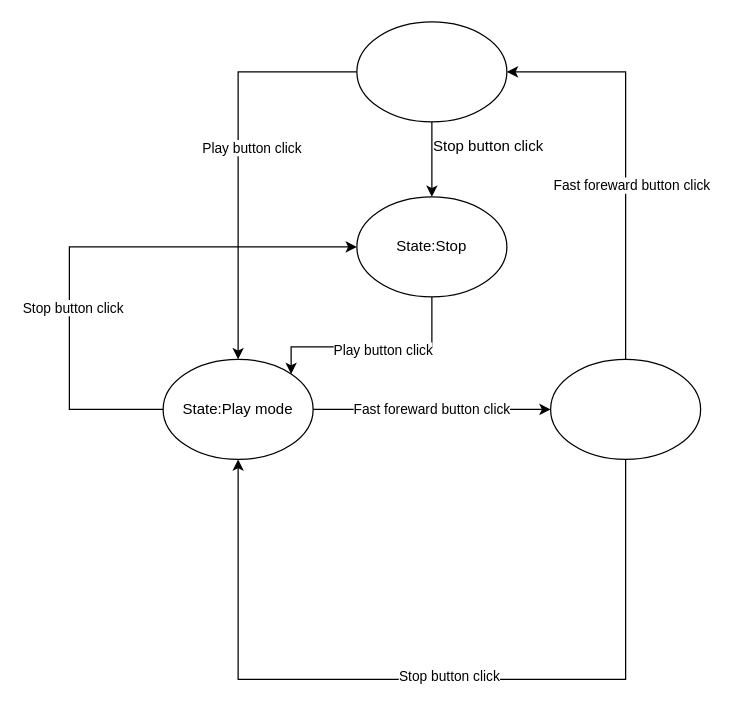
Some shapes in this 731 by 711 pixel diagram are drawn without their labels. The shapes that lost their labels are listed below. From the top down, each one's centre as x and y in pixels, then its label:
At point (431, 71): "State:Fast foreward".
At point (625, 408): "State:Fast play".
